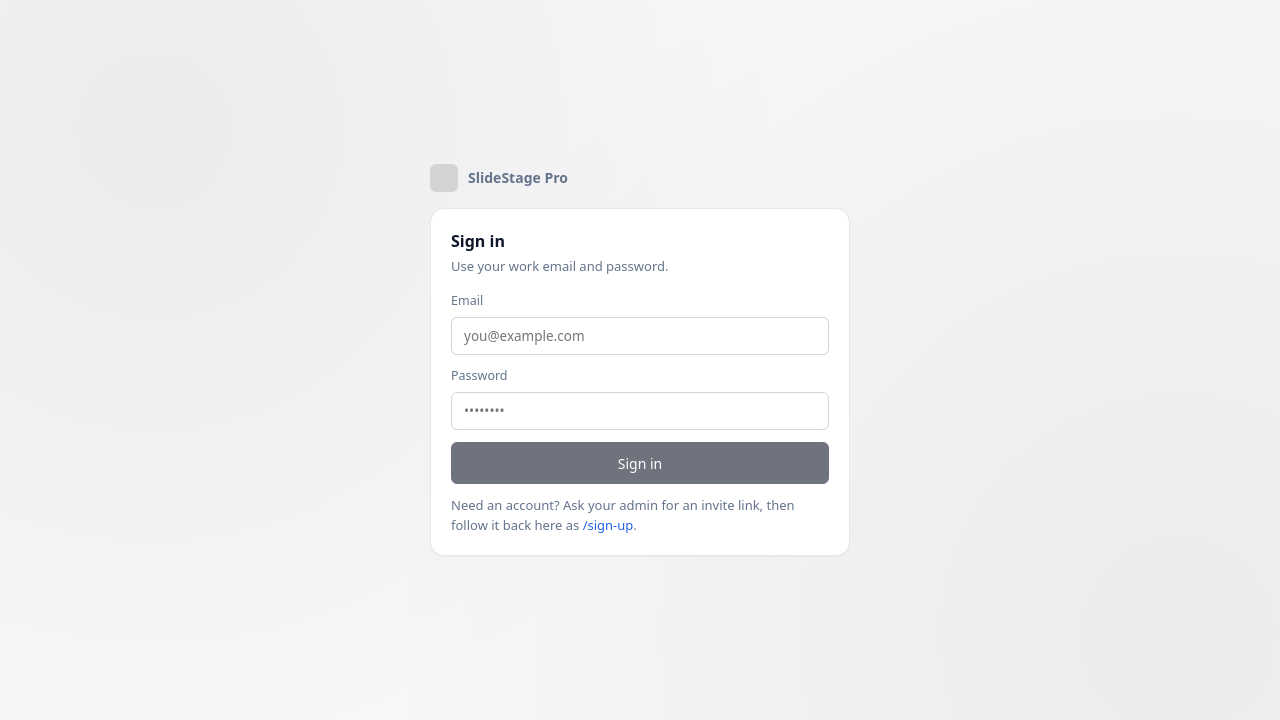
it: Login page › surfaces a friendly error when credentials are bad
Step 1. Type "x@example.com" into the field labelled "Email" → (640, 336), box [451,317,829,355]
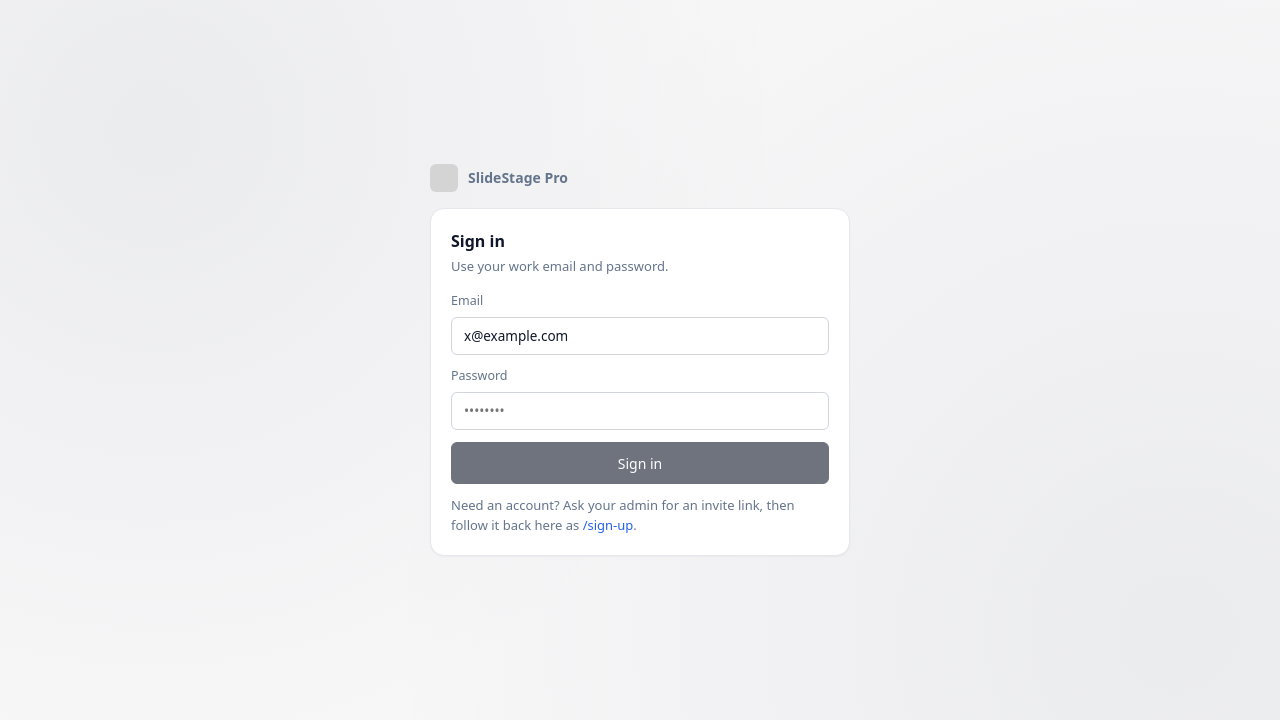
Step 2. Type "nope" into the password field labelled "Password" → (640, 411), box [451,392,829,430]
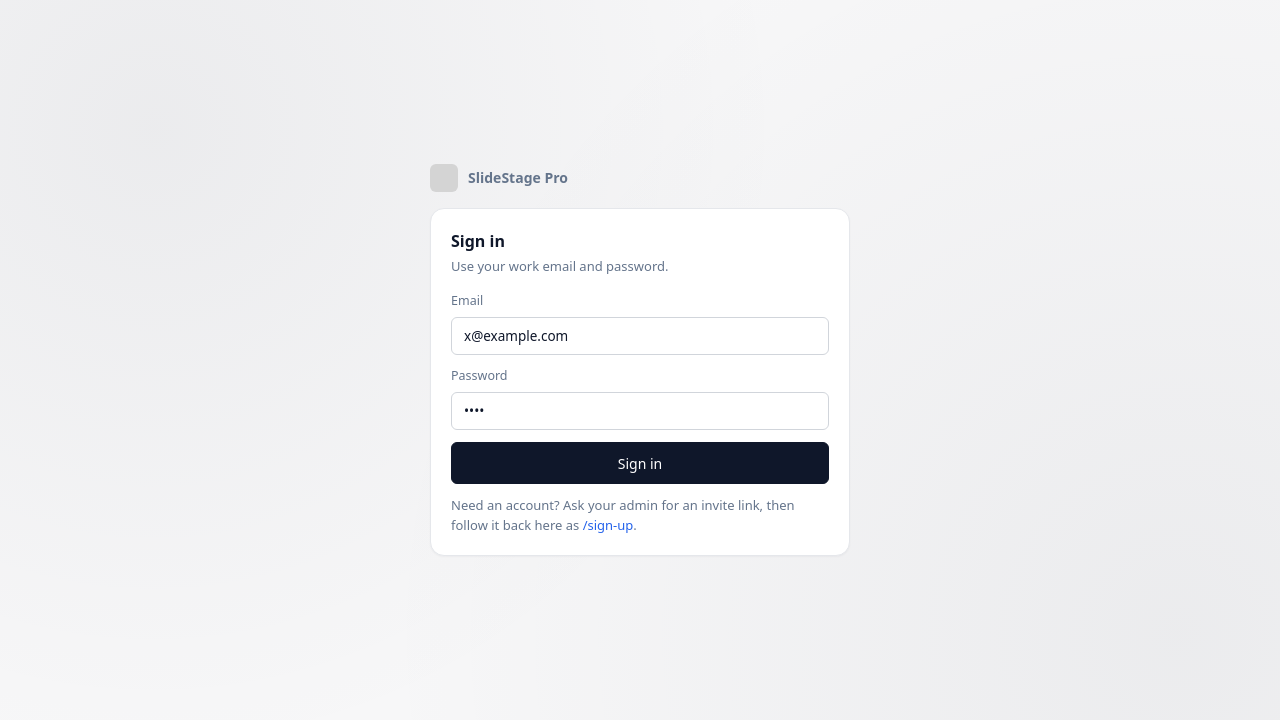
Step 3. Click the button "Sign in" → (640, 463), box [451,442,829,484]
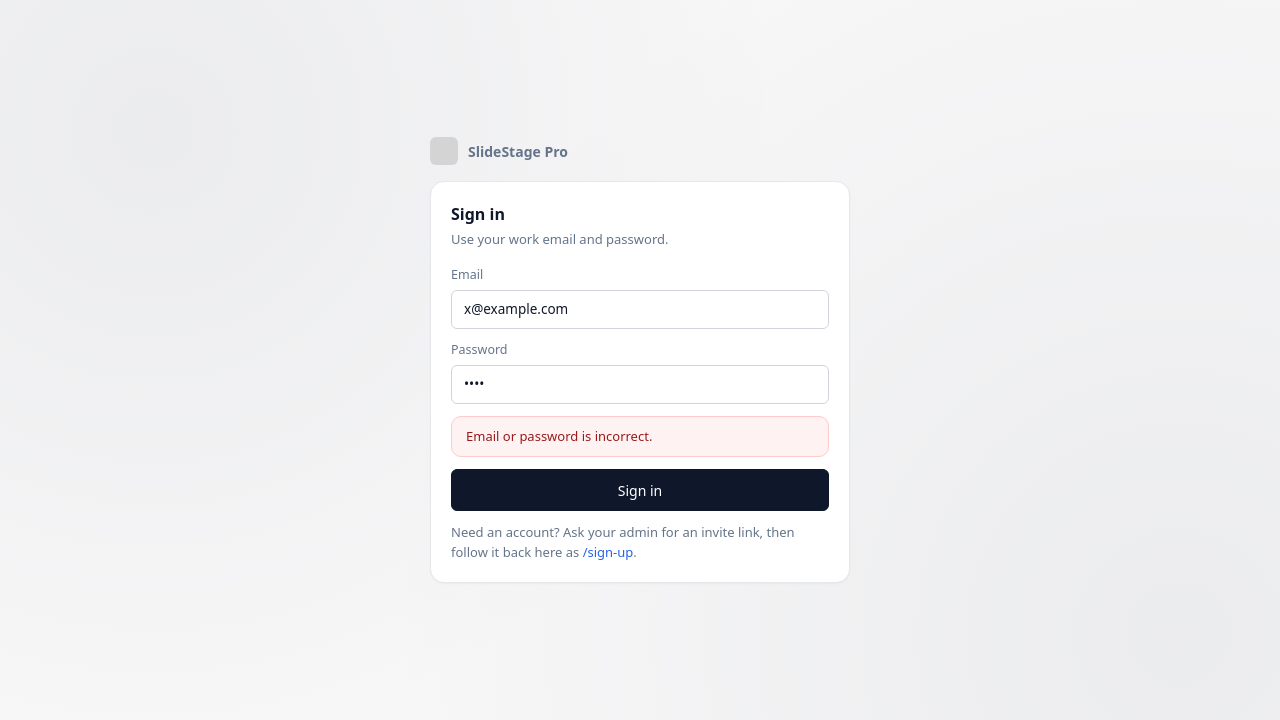
Expected: the message shows "Email or password is incorrect", [466,426,652,444]
